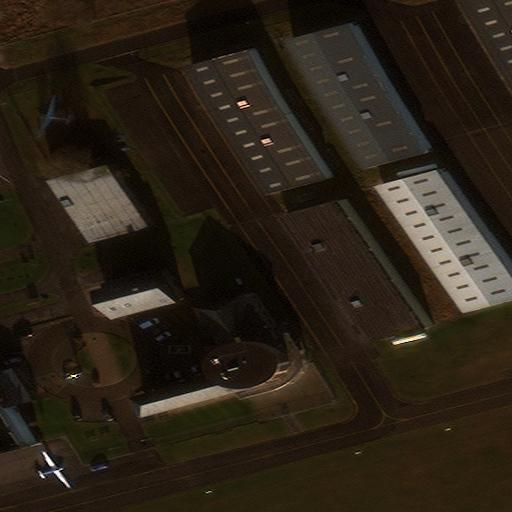Medium Civil Transport: (36, 93, 72, 136), (38, 450, 71, 488)
